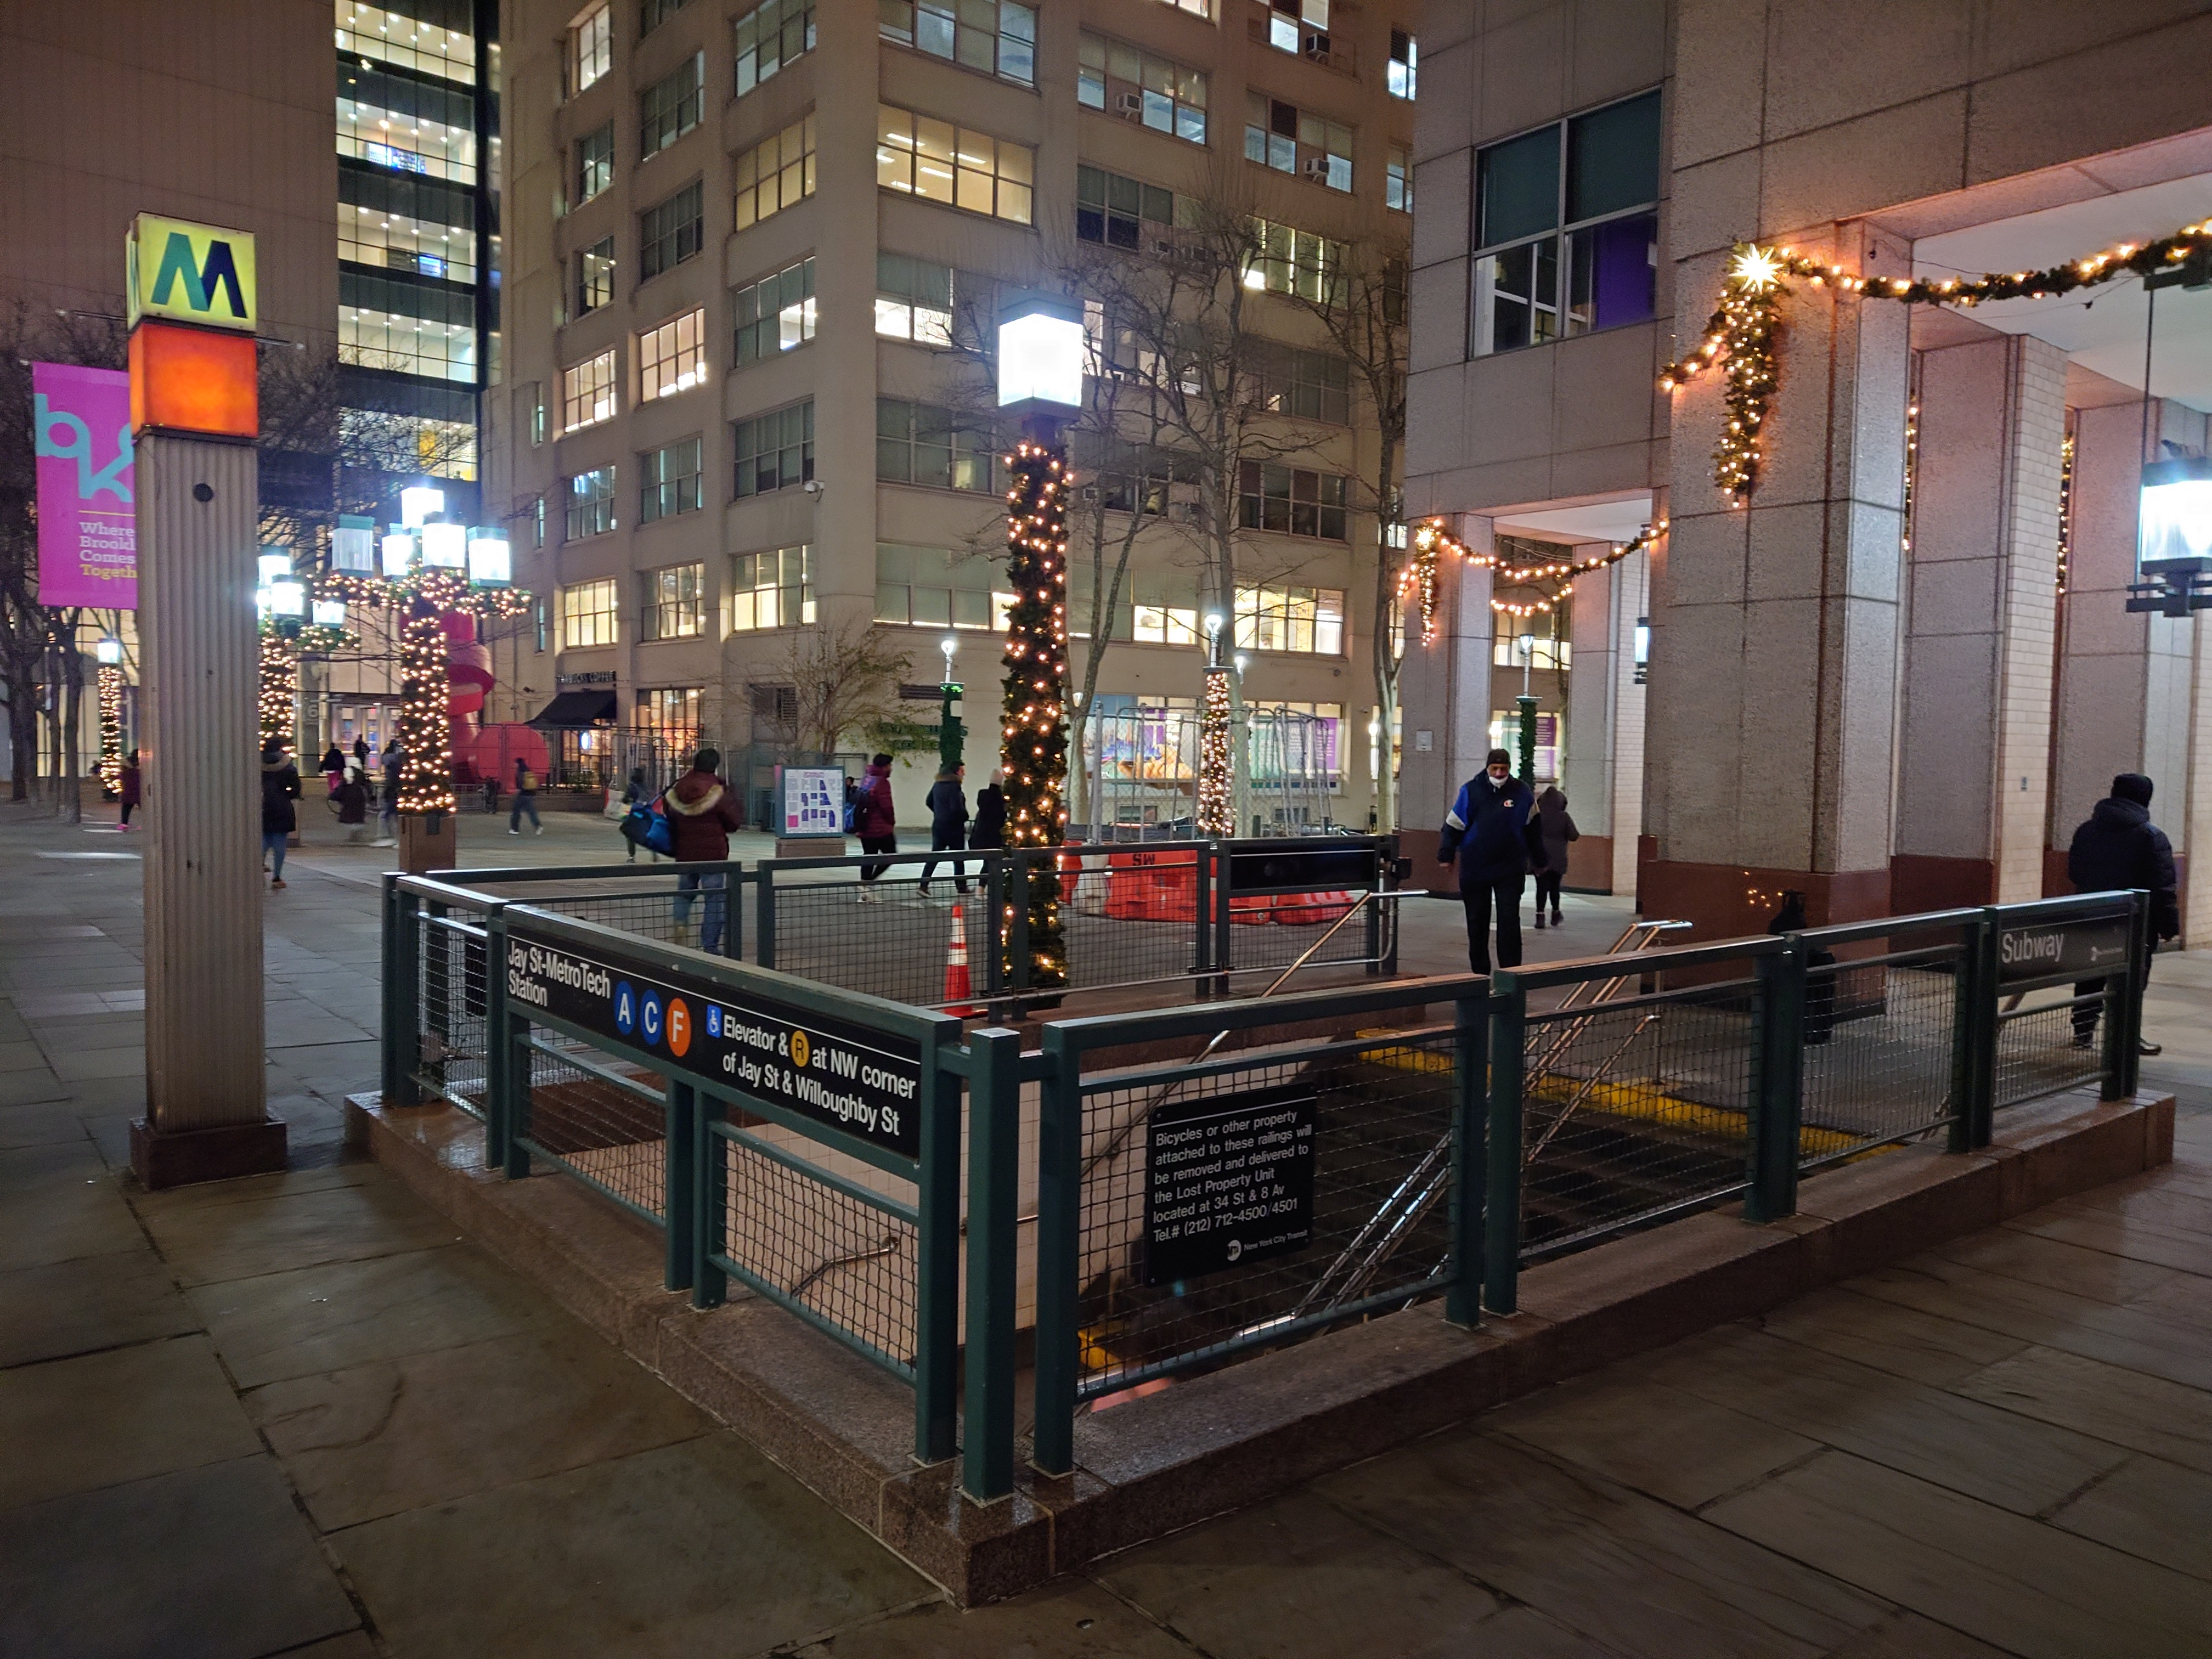person: (2066, 775, 2172, 1059), (1438, 747, 1532, 973), (664, 748, 741, 960), (921, 761, 973, 894), (1531, 786, 1577, 931), (855, 752, 896, 904), (262, 735, 303, 888), (976, 768, 1012, 897), (331, 758, 371, 845), (507, 756, 544, 838), (352, 733, 374, 770)
